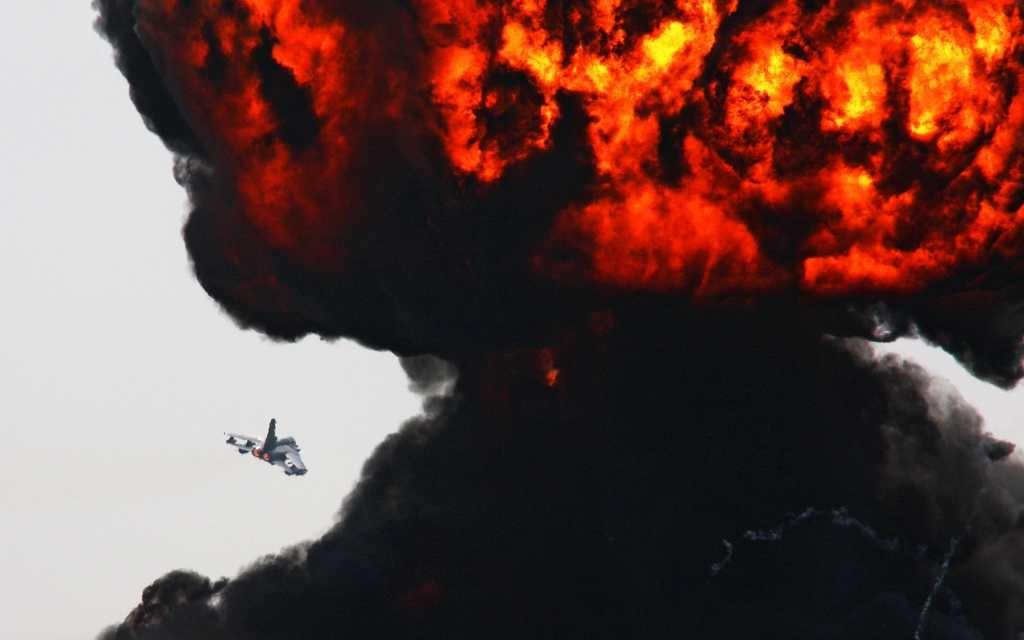fire: (592, 190, 745, 290), (583, 27, 713, 125), (908, 32, 975, 135), (435, 37, 485, 162), (748, 42, 790, 132)
